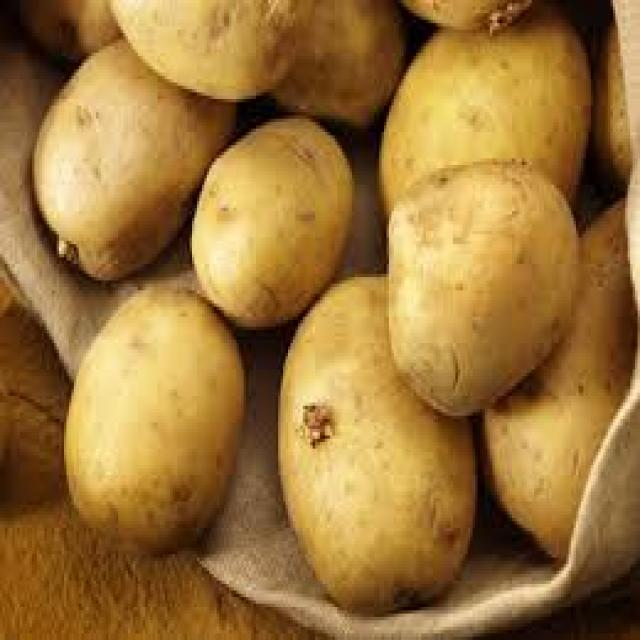Potato: (35, 253, 273, 552), (276, 284, 474, 607), (388, 136, 588, 407), (184, 87, 365, 335)
